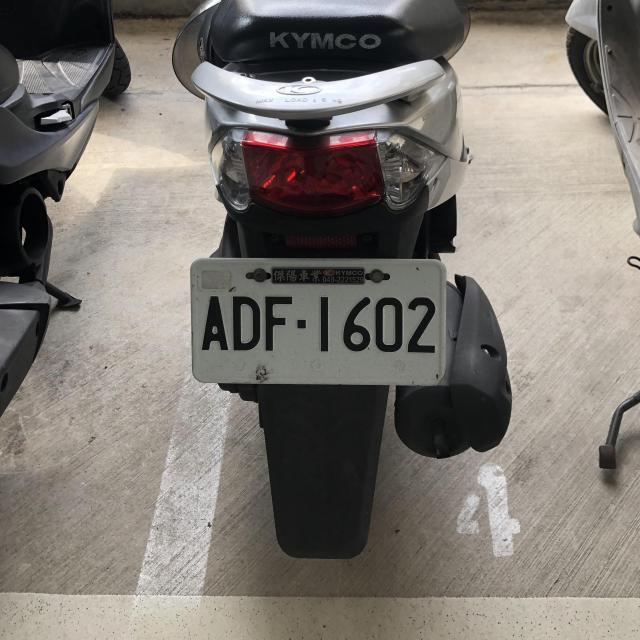W: (190, 253, 448, 384)
